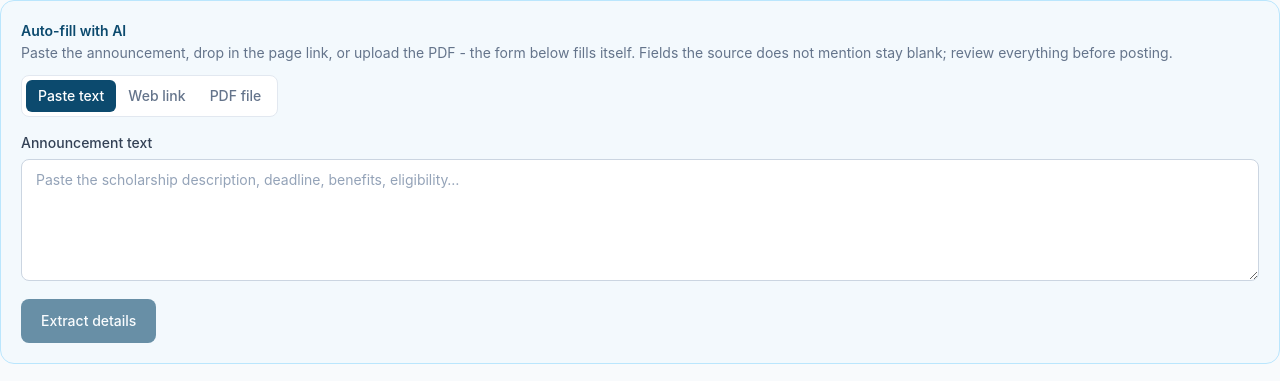
Test case: ScholarshipExtract › extracts from a URL in link mode
Click the tab "Web link" at (157, 96), box [116,80,198,112]
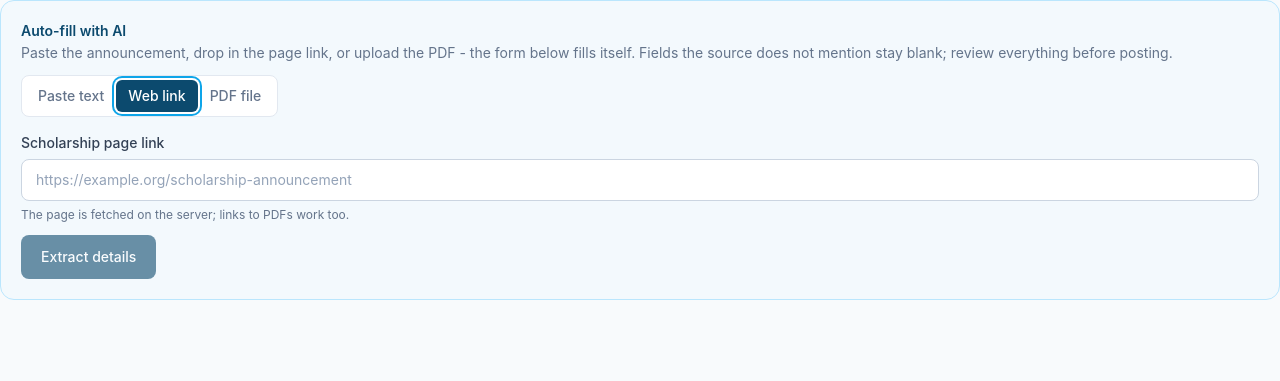
Type "https://example.org/award" into the field labelled "Scholarship page link" at (640, 180), box [21,159,1259,201]
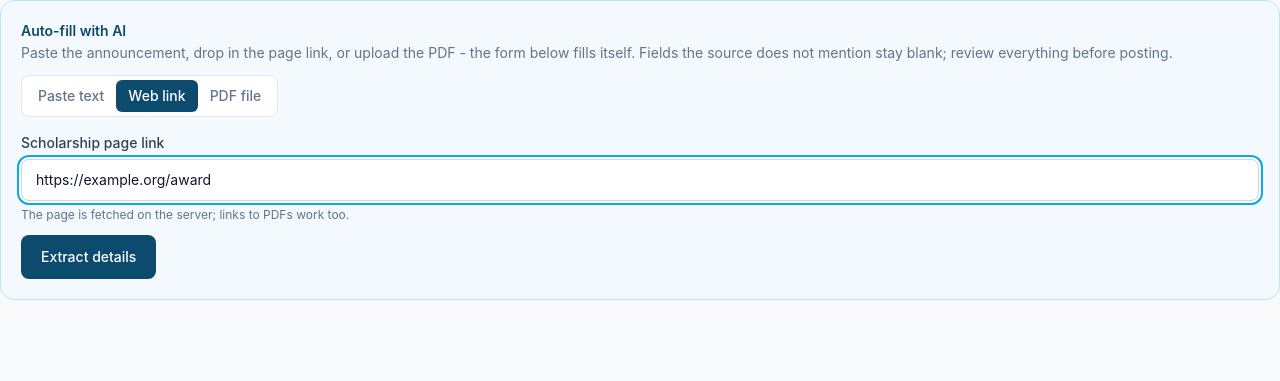
Click the button "Extract details" at (89, 257), box [21,235,156,279]
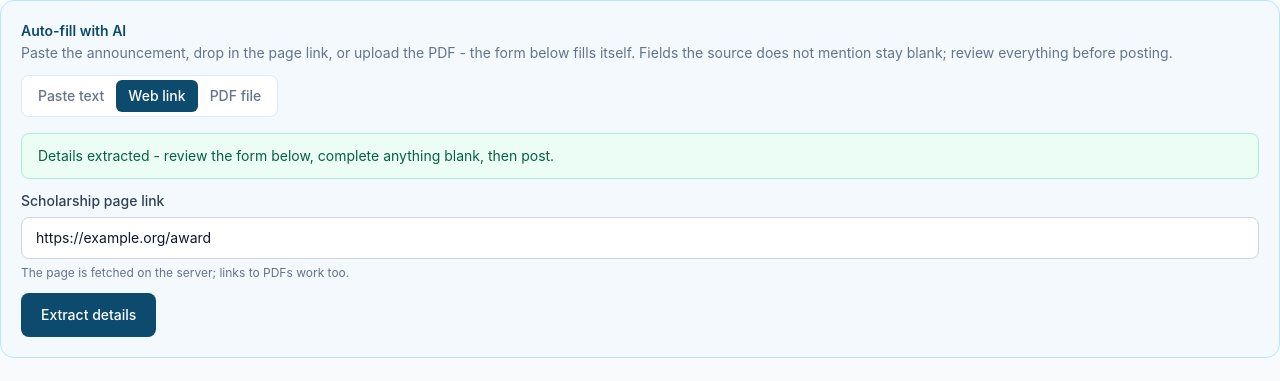
Expected: the text "Details extracted" is shown, [38,147,554,164]
